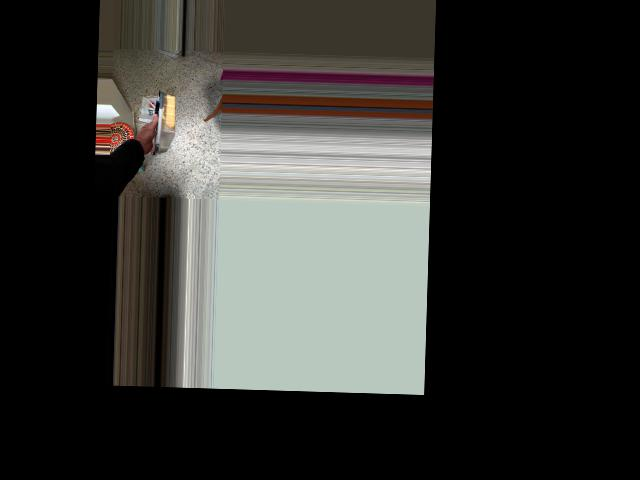cheese: (123, 95, 192, 166)
